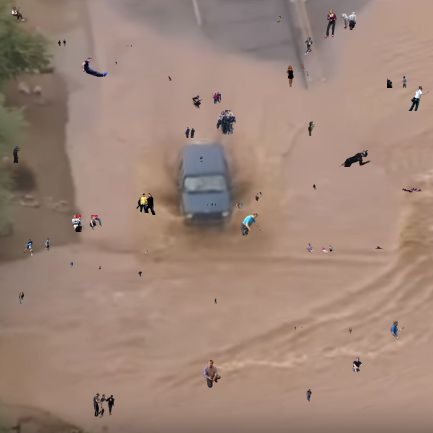Human: (93, 393, 115, 418), (241, 212, 262, 238), (339, 150, 371, 167), (81, 57, 108, 77), (286, 64, 309, 87), (13, 146, 44, 163), (216, 110, 237, 135), (408, 86, 429, 111), (72, 215, 102, 232), (203, 360, 221, 388), (23, 238, 51, 256), (192, 92, 221, 109), (136, 193, 156, 215), (324, 9, 337, 39), (339, 12, 356, 30), (390, 320, 405, 340), (306, 243, 333, 254), (294, 389, 314, 402), (387, 76, 407, 88), (11, 7, 25, 21), (352, 357, 364, 373), (304, 37, 313, 57), (185, 127, 195, 138), (308, 121, 315, 136), (401, 188, 422, 193), (16, 292, 24, 304), (58, 39, 66, 49), (255, 192, 263, 201), (236, 203, 243, 209), (294, 326, 303, 330), (375, 245, 383, 249), (277, 16, 281, 23), (207, 203, 216, 206), (313, 184, 317, 190), (70, 261, 73, 269), (138, 271, 142, 277), (126, 45, 137, 47), (349, 327, 352, 334), (114, 58, 117, 65), (144, 250, 148, 255), (168, 76, 172, 81), (200, 156, 203, 162), (214, 298, 217, 304), (98, 265, 101, 271)
